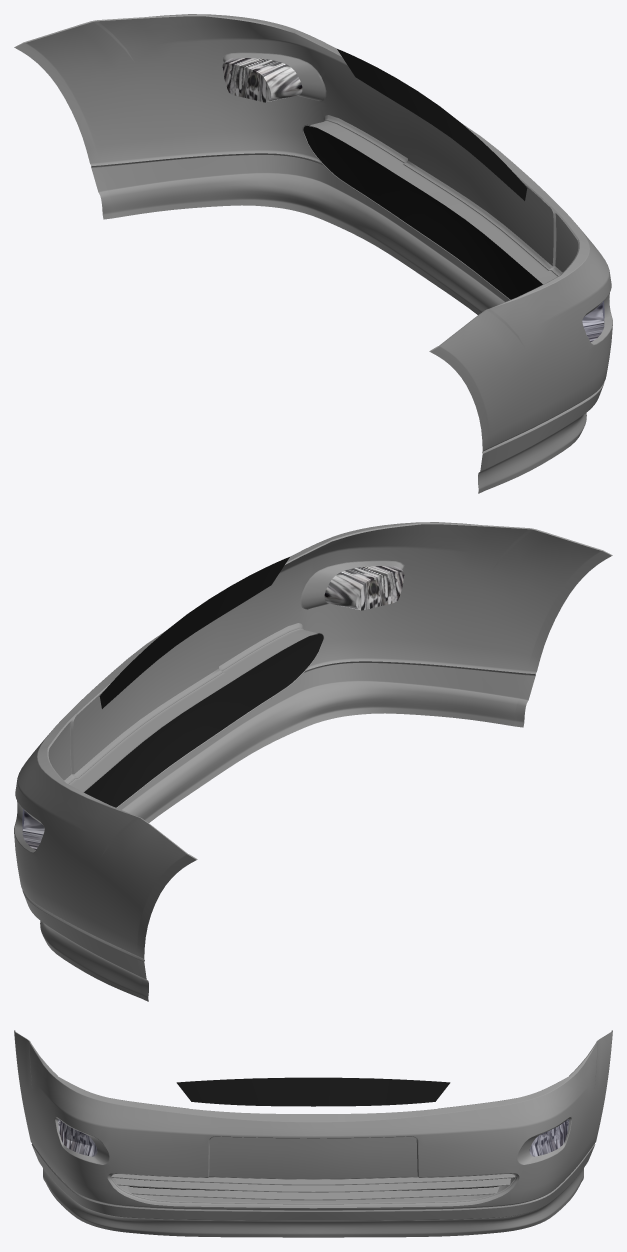
The picture shows the model from 3 angles, top to bottom: view 1: azimuth 30°, elevation 25°; view 2: azimuth 150°, elevation 25°; view 3: azimuth 270°, elevation 25°; orthographic projection. The views are drawn at different scales.
Parts seen in each view (by area): view 1: P157_021G_C_P157_021G_C_4_DaS, P157_021G_C_P157_021G_C_1_DaS, P157_021G_C_P157_021G_C_6_D, P157_021G_C_P157_021G_C_8_DaS, P157_021G_C_2_N_P157_021G_C, P157_021G_C_P157_021G_C_4_DaS_E; view 2: P157_021G_C_P157_021G_C_4_DaS, P157_021G_C_P157_021G_C_1_DaS, P157_021G_C_P157_021G_C_6_D, P157_021G_C_P157_021G_C_8_DaS, P157_021G_C_P157_021G_C_3_N, P157_021G_C_P157_021G_C_4_DaS_E; view 3: P157_021G_C_P157_021G_C_4_DaS, P157_021G_C_P157_021G_C_1_DaS, P157_021G_C_P157_021G_C_8_DaS, P157_021G_C_P157_021G_C_6_D, P157_021G_C_P157_021G_C_4_DaS_E, P157_021G_C_2_N_P157_021G_C, P157_021G_C_P157_021G_C_3_N, P157_021G_C_P157_021G_C_5_DTaSI, P157_021G_C_P157_021G_C_7_DTaSI.
Boxes of the visible parts, x1,y1,x2,y2 form: P157_021G_C_P157_021G_C_4_DaS: (15,14,612,451); P157_021G_C_P157_021G_C_1_DaS: (91,153,604,493); P157_021G_C_P157_021G_C_6_D: (303,49,542,299); P157_021G_C_P157_021G_C_8_DaS: (302,120,558,299); P157_021G_C_2_N_P157_021G_C: (222,58,302,102); P157_021G_C_P157_021G_C_4_DaS_E: (14,14,612,351); P157_021G_C_P157_021G_C_4_DaS: (14,522,611,959); P157_021G_C_P157_021G_C_1_DaS: (22,661,535,1001); P157_021G_C_P157_021G_C_6_D: (84,557,323,807); P157_021G_C_P157_021G_C_8_DaS: (68,628,324,807); P157_021G_C_P157_021G_C_3_N: (324,566,404,610); P157_021G_C_P157_021G_C_4_DaS_E: (14,522,612,859); P157_021G_C_P157_021G_C_4_DaS: (14,1031,612,1210); P157_021G_C_P157_021G_C_1_DaS: (31,1144,595,1237); P157_021G_C_P157_021G_C_8_DaS: (111,1173,515,1204); P157_021G_C_P157_021G_C_6_D: (120,1077,506,1190); P157_021G_C_P157_021G_C_4_DaS_E: (14,1030,612,1208); P157_021G_C_2_N_P157_021G_C: (529,1119,569,1156); P157_021G_C_P157_021G_C_3_N: (57,1119,97,1156); P157_021G_C_P157_021G_C_5_DTaSI: (530,1119,568,1156); P157_021G_C_P157_021G_C_7_DTaSI: (58,1119,96,1156).
Bounding box in the file's own units: 77.97 × 59.25 × 208.
